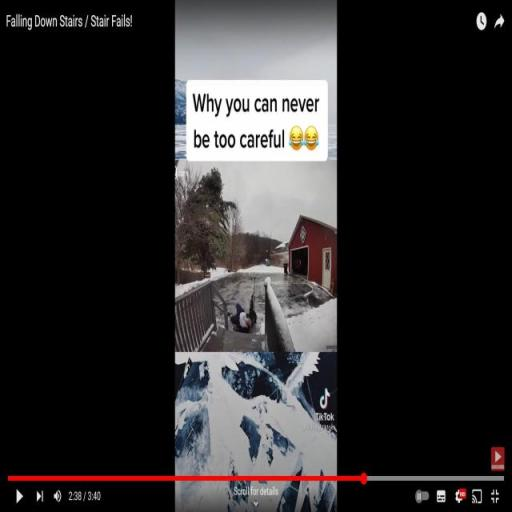Fall: (225, 293, 258, 335)
